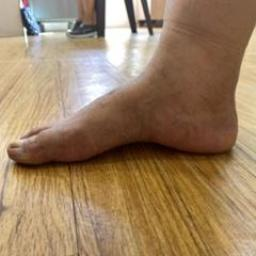Medial View -Right Foot-: (1, 31, 250, 187)
